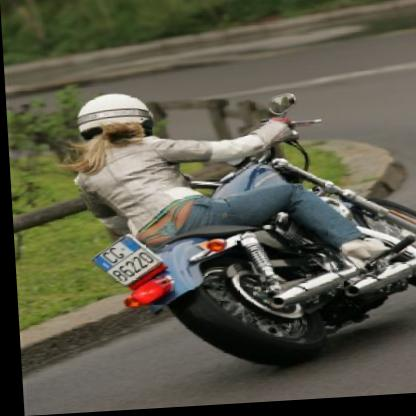With Helmet: (64, 87, 160, 153)
